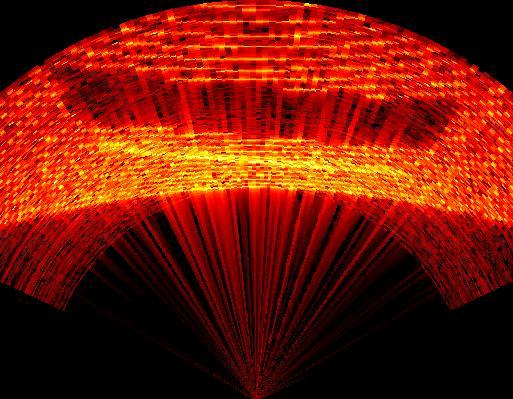pipe: (56, 62, 455, 178)
